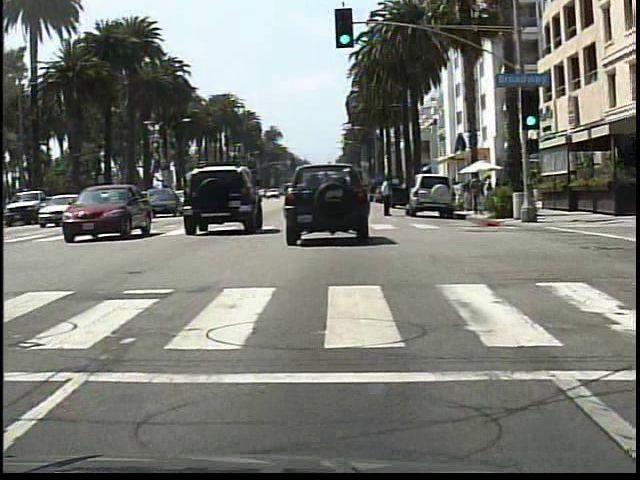person: (376, 169, 398, 220)
